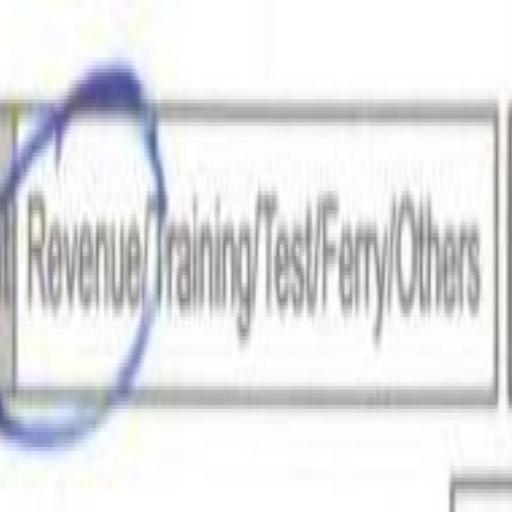check: (28, 58, 146, 512)
